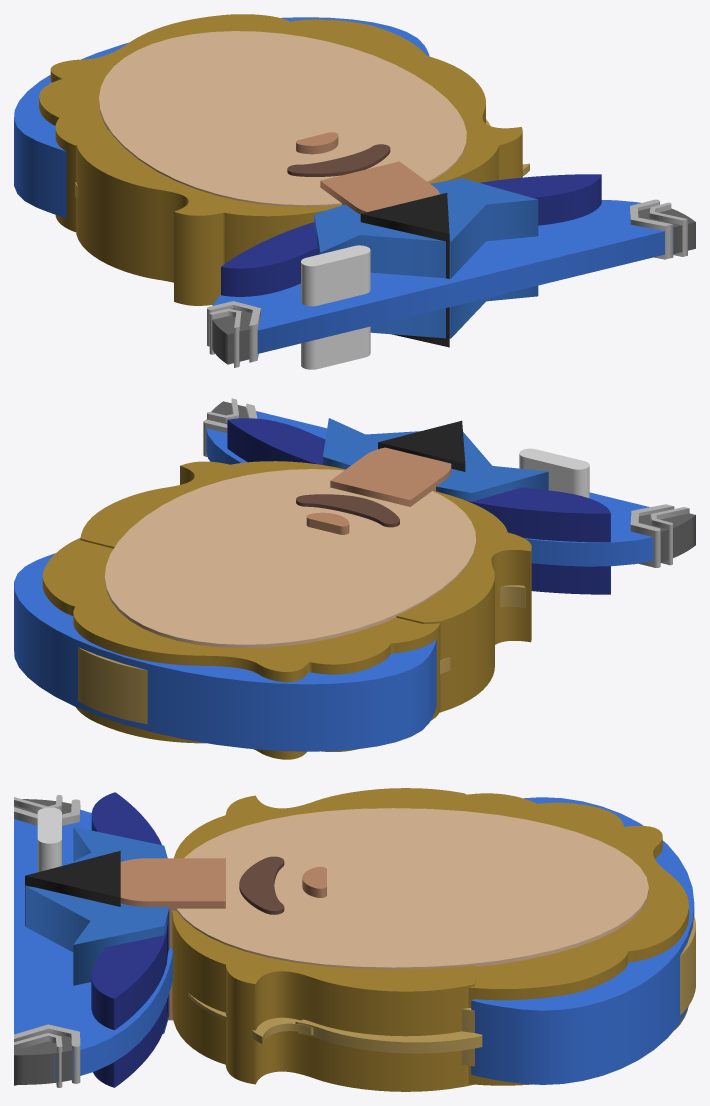
File: emoji_u1f46e_1f3fc.glb
3 renders of one model, top to bottom at view 1: azimuth 30°, elevation 25°; view 2: azimuth 150°, elevation 25°; view 3: azimuth 270°, elevation 25°, orthographic. The views are drawn at different scales.
Visible parts, largest first — view 1: emoji_u1f46e_1f3fc; view 2: emoji_u1f46e_1f3fc; view 3: emoji_u1f46e_1f3fc.
Boxes of the visible parts, box(x1,y1,x2,y2) form: emoji_u1f46e_1f3fc: box(14, 14, 695, 369); emoji_u1f46e_1f3fc: box(14, 398, 695, 759); emoji_u1f46e_1f3fc: box(14, 788, 695, 1091).
Size of the model in its own units: 0.0294 by 0.0068 by 0.0333.
